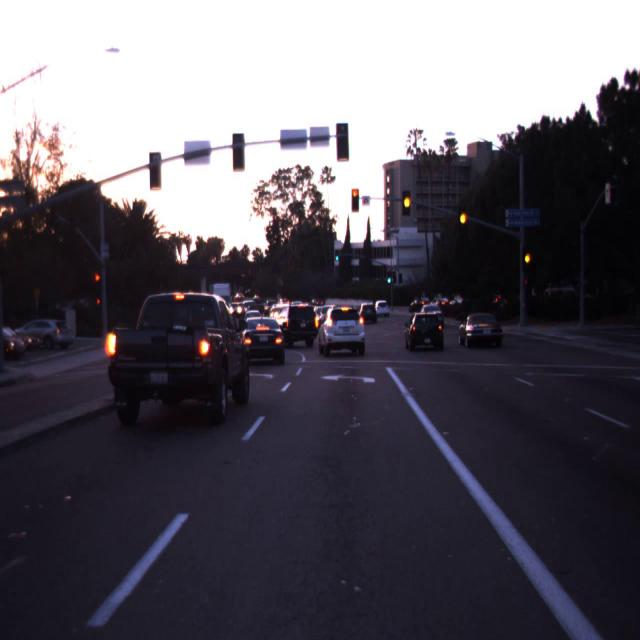arka_lamba: (336, 123, 349, 161), (232, 134, 245, 171), (149, 152, 161, 190)
kirmizi: (351, 188, 359, 213)
sari: (402, 190, 411, 217), (458, 208, 468, 232), (522, 246, 531, 272)
